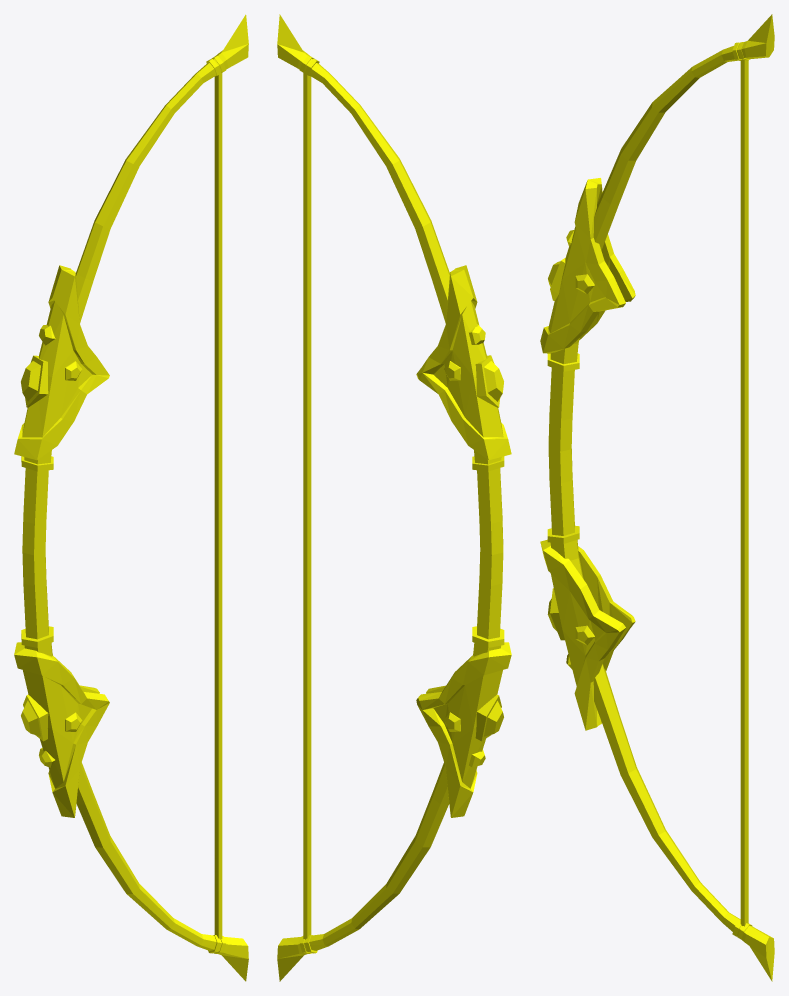
The model's file is _bow_7.glb.
3 views of the same model, side by side, from view 1: azimuth 30°, elevation 25°; view 2: azimuth 150°, elevation 25°; view 3: azimuth 330°, elevation 25° (orthographic).
Visible parts, largest first — view 1: bow_7; view 2: bow_7; view 3: bow_7.
Boxes of the visible parts, x1,y1,x2,y2 form: bow_7: (14,14,248,981); bow_7: (277,14,511,981); bow_7: (540,14,774,981).
Bounding box in the file's own units: 0.3163 × 1.26 × 0.0478.
Materials: 1 (1 with a texture image).
